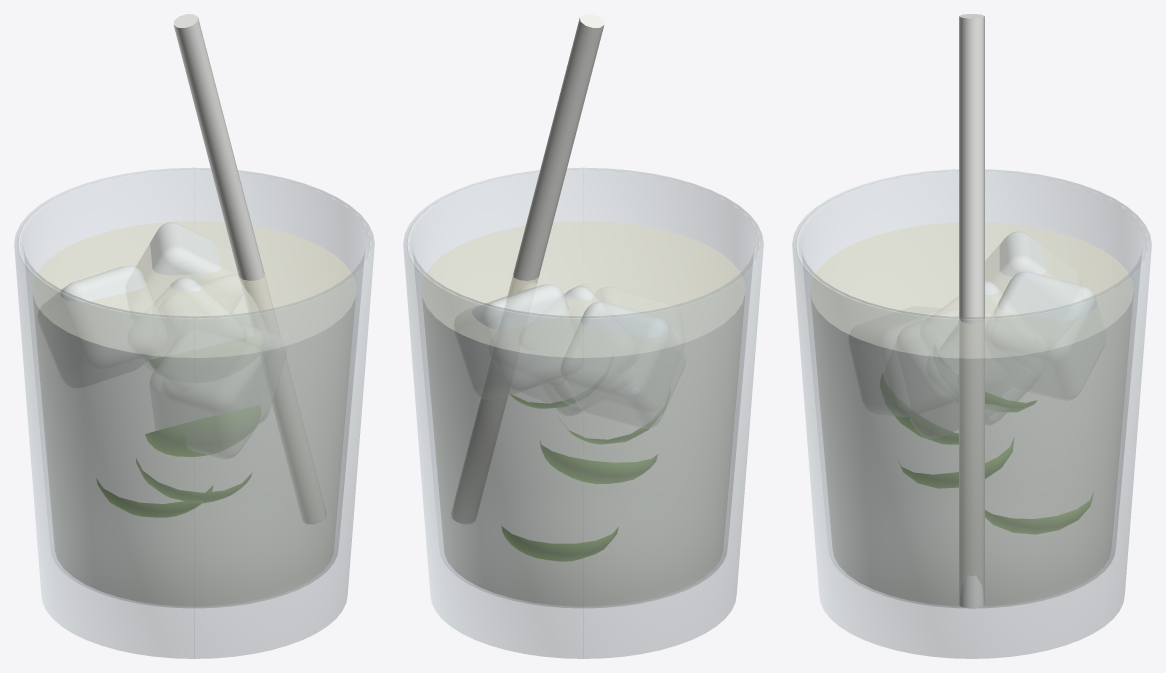
Rendered from caipirinha.glb.
3 views of the same model, side by side, from view 1: azimuth 30°, elevation 25°; view 2: azimuth 150°, elevation 25°; view 3: azimuth 270°, elevation 25° (orthographic).
Visible parts, largest first — view 1: caipirinha; view 2: caipirinha; view 3: caipirinha.
Boxes of the visible parts, bbox=[...] form: caipirinha: bbox=[14, 14, 374, 658]; caipirinha: bbox=[403, 14, 763, 658]; caipirinha: bbox=[792, 14, 1151, 658].
Size of the model in its own units: 0.084 by 0.1485 by 0.084.
